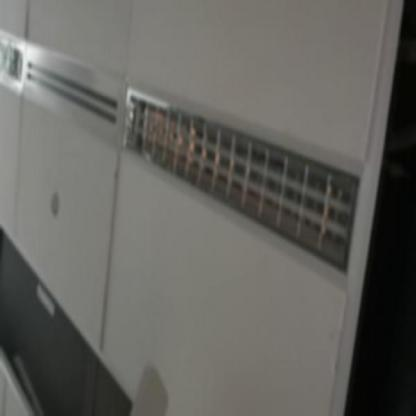light_off: (113, 68, 371, 284)
